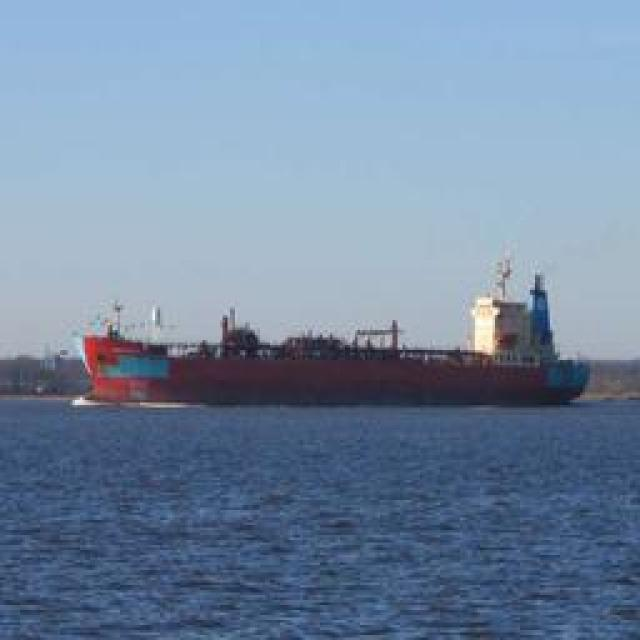CIV_Ship: (75, 264, 588, 408)
